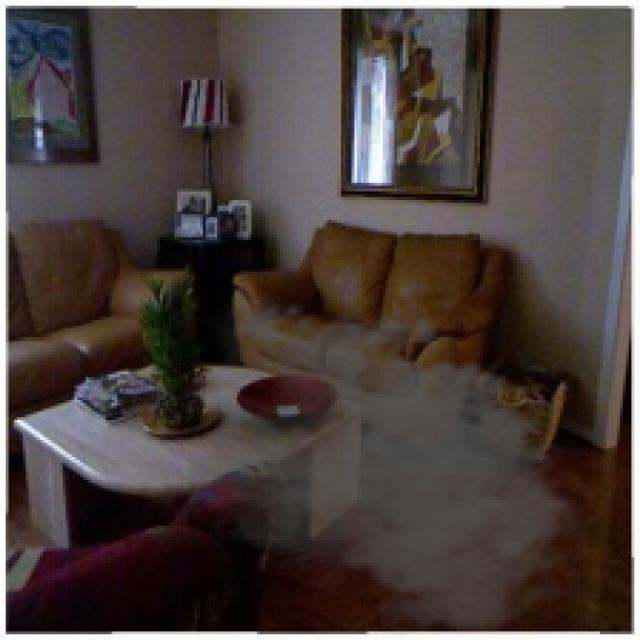Smoke: (188, 292, 600, 637)
